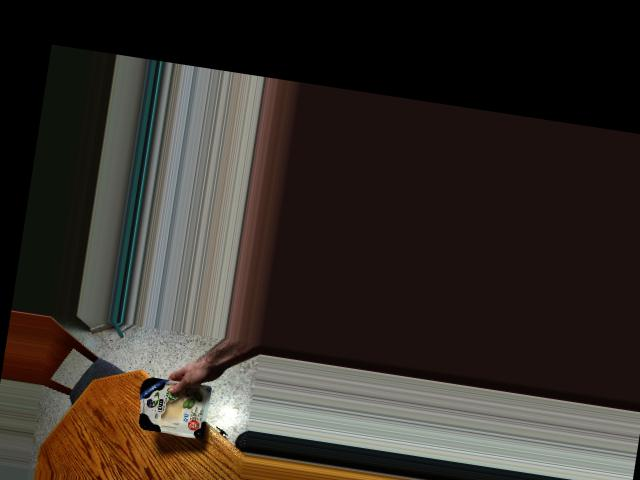cheese: (134, 371, 216, 439)
